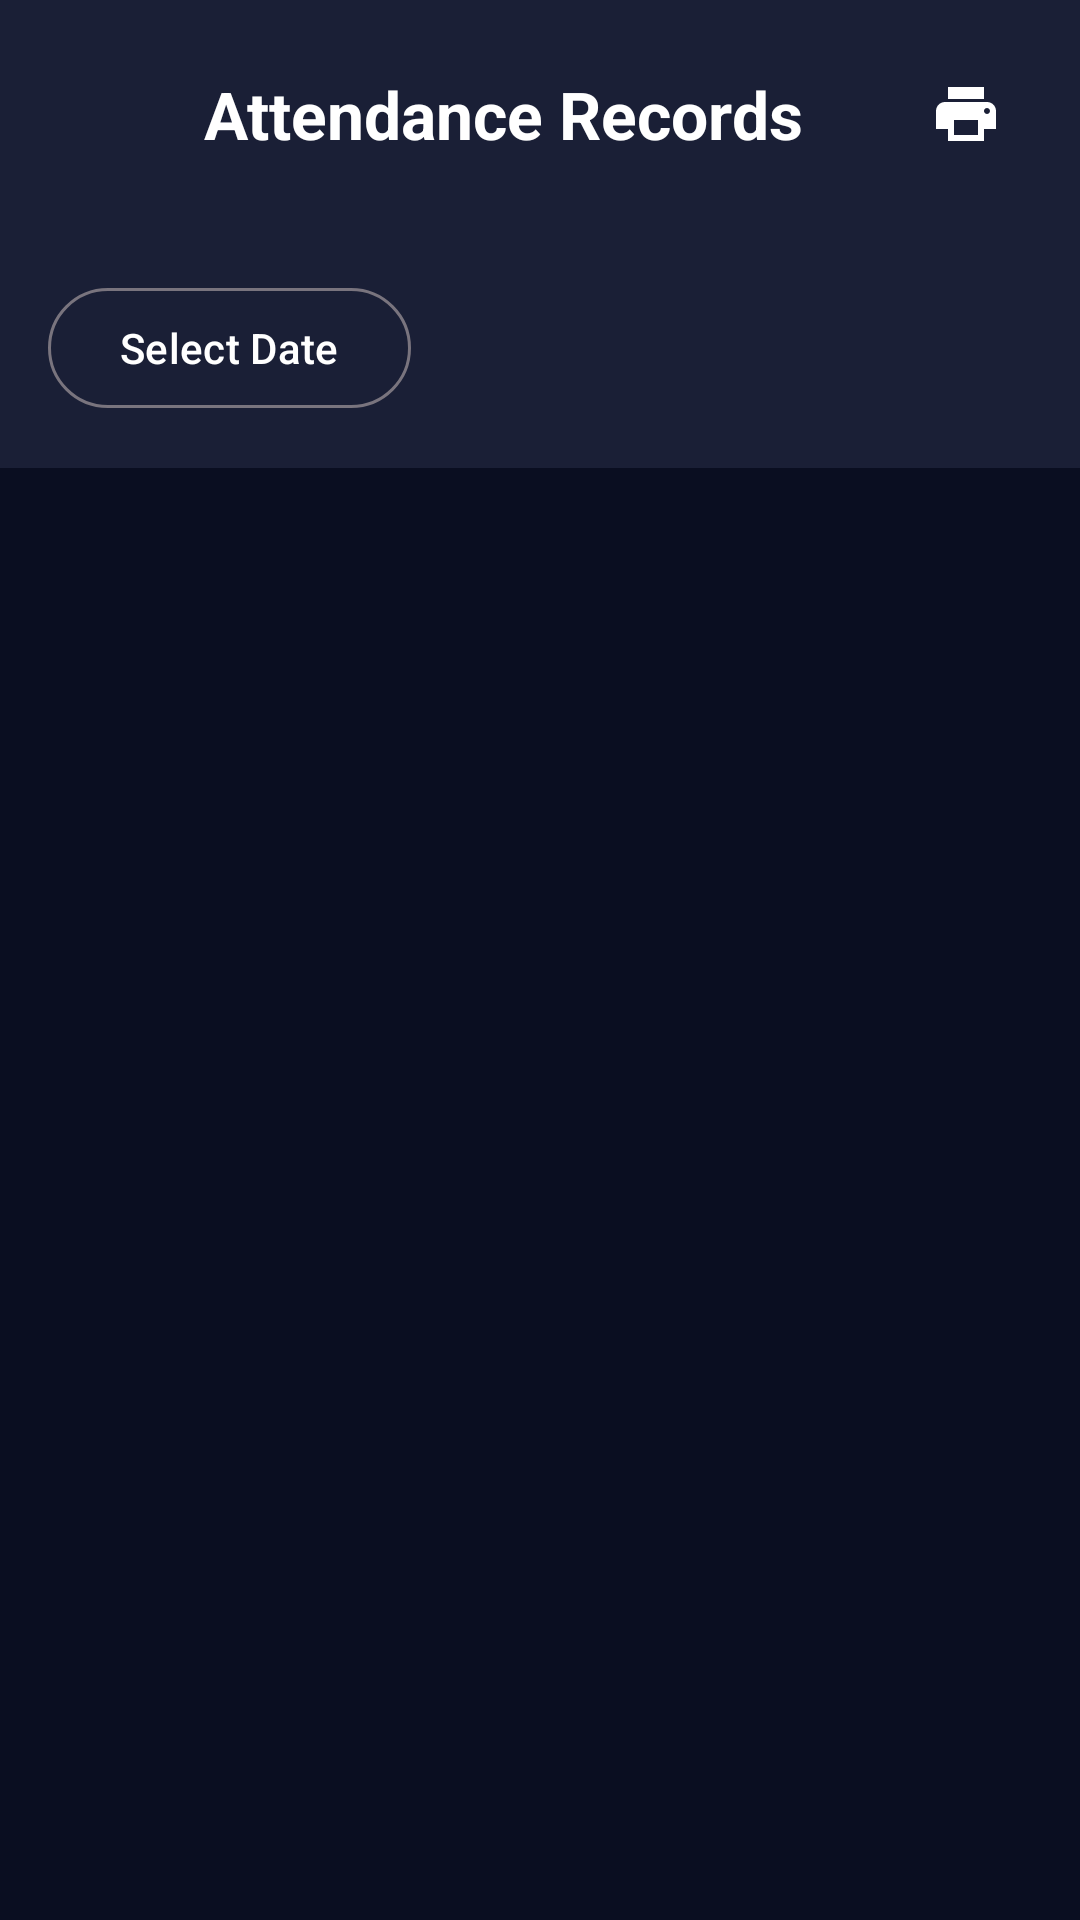

Icons on this 1080w x 1920h Android screen, each with the point to tap as point (x, y):
Print / Export: point (966, 114)
